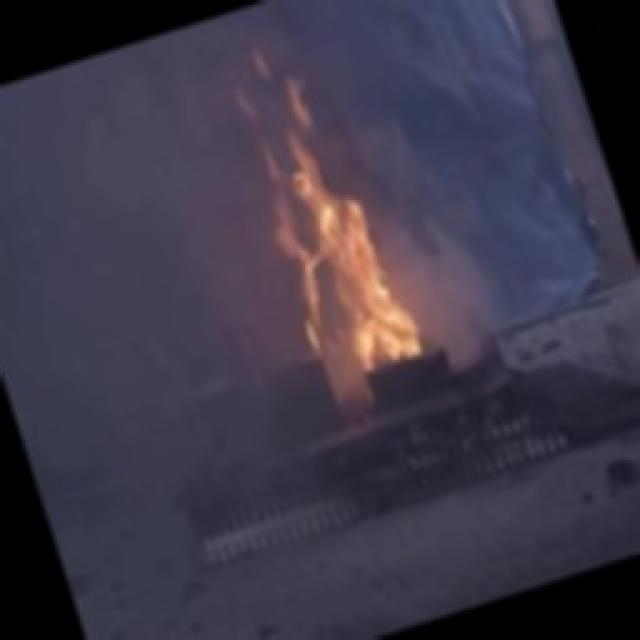fire: (219, 45, 416, 393)
